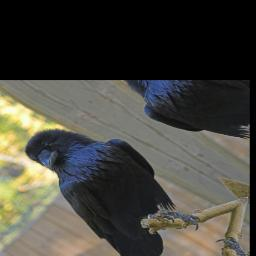Crow: (0, 105, 228, 256)
